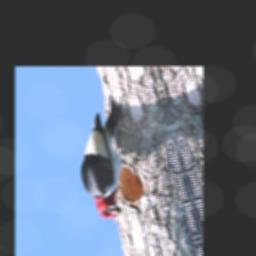Woodpecker: (60, 91, 159, 231)
